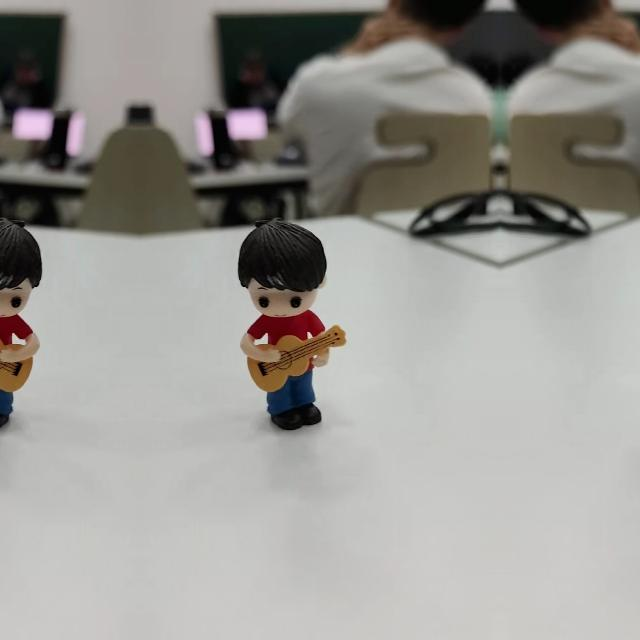man cloth: (247, 316, 331, 348), (0, 315, 33, 348)
man head: (238, 214, 328, 318), (0, 214, 41, 318)
trousers: (259, 361, 329, 434), (0, 360, 21, 433)
